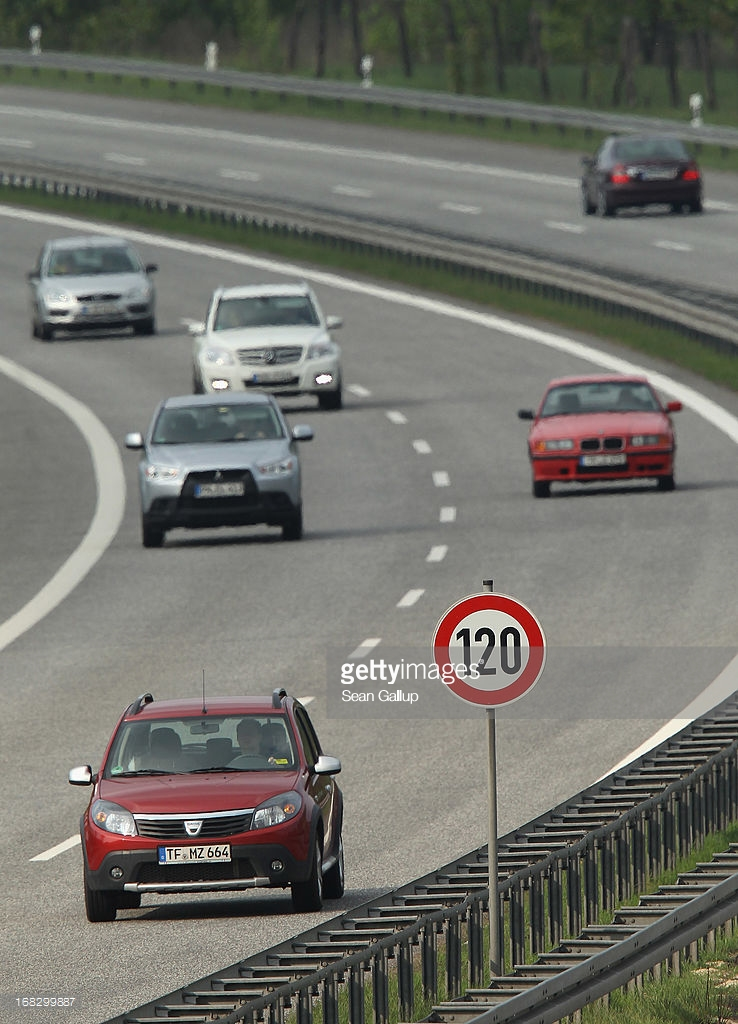Speed_limit_120km: (430, 593, 545, 706)
car: (61, 686, 355, 919), (117, 387, 320, 555), (178, 281, 351, 420), (517, 371, 689, 502), (25, 235, 163, 346)
